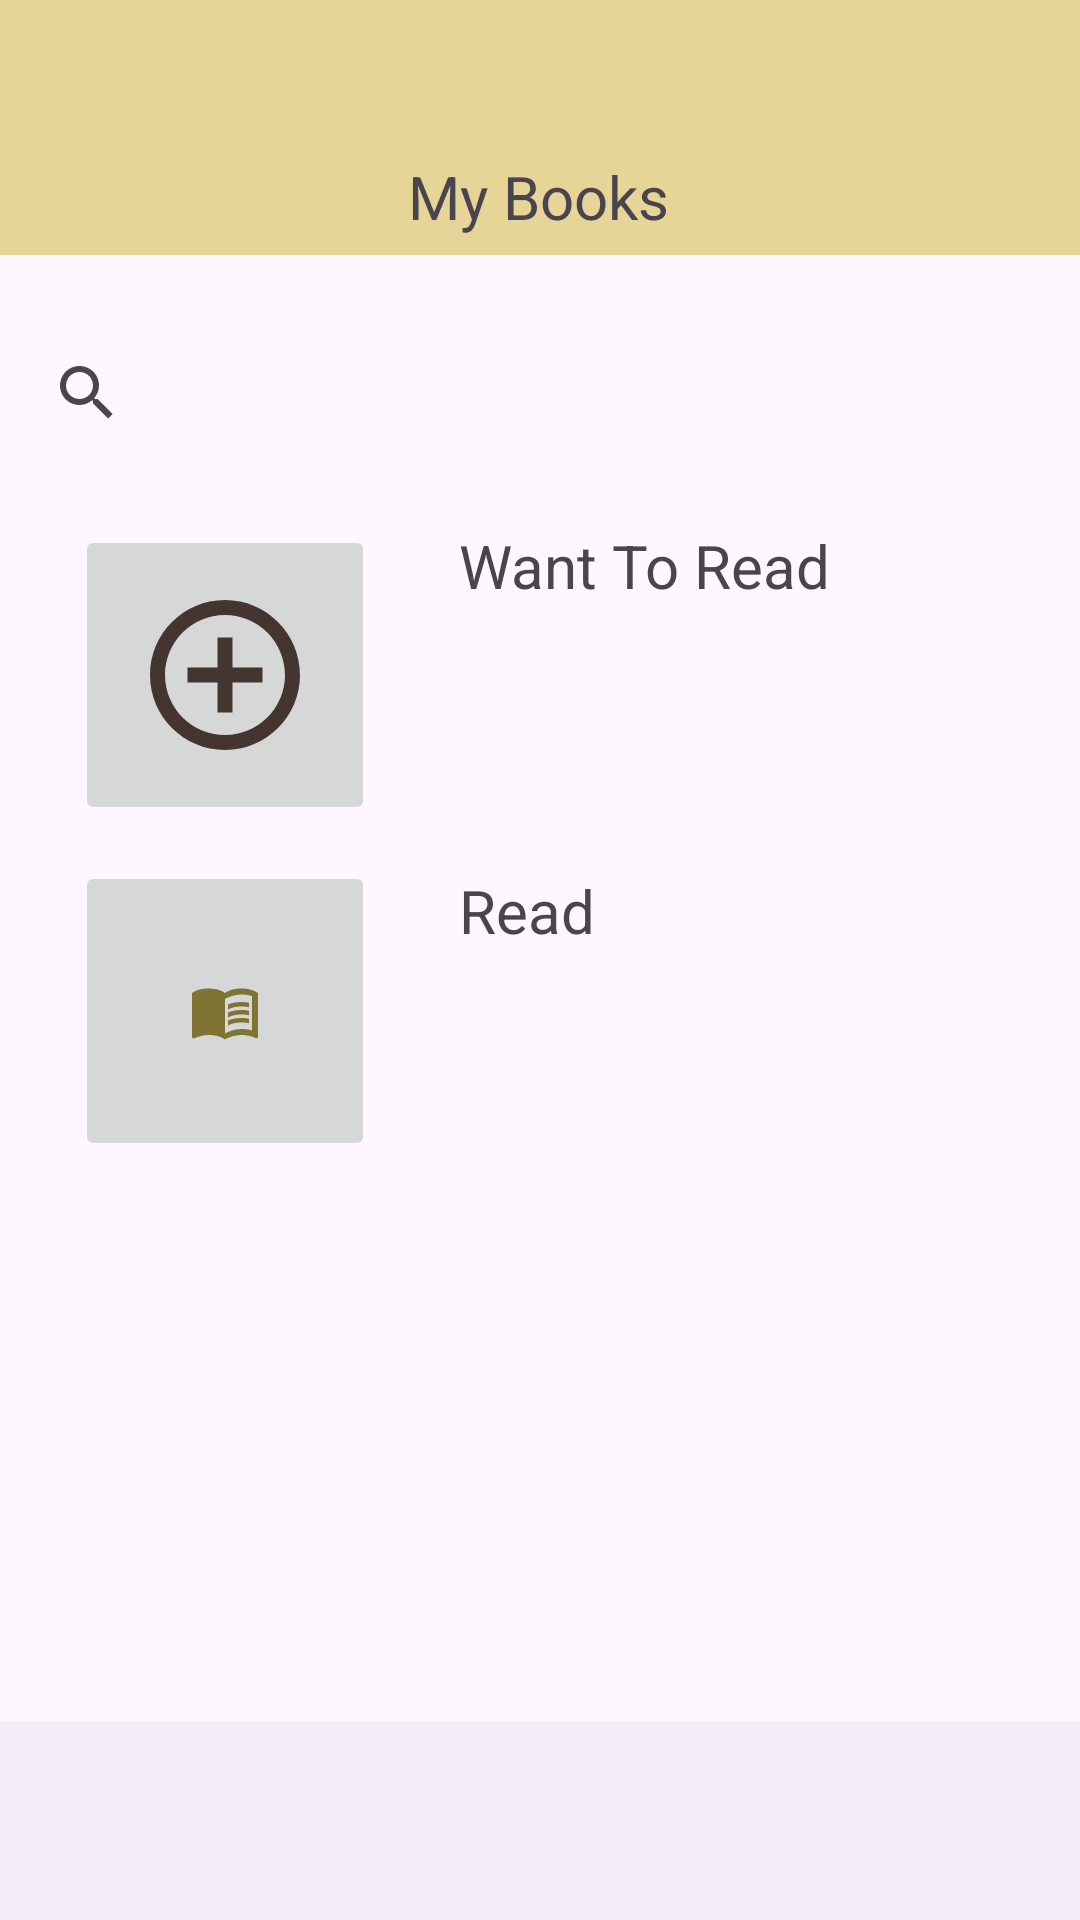

Screen size 1080x1920. Icon name, then its center in pixels as point (x, y):
add circle: point (225, 675)
book: point (225, 1011)
